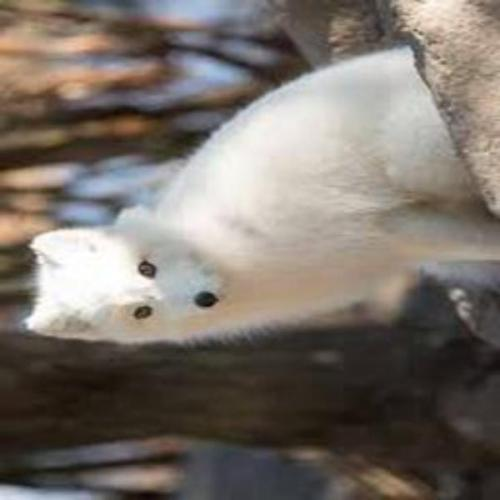arctic_fox-endangered: (27, 42, 500, 344)
